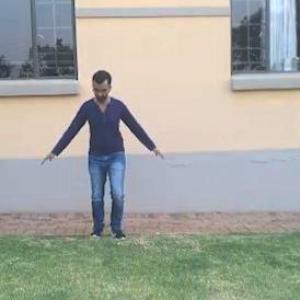land: (37, 66, 171, 242)
